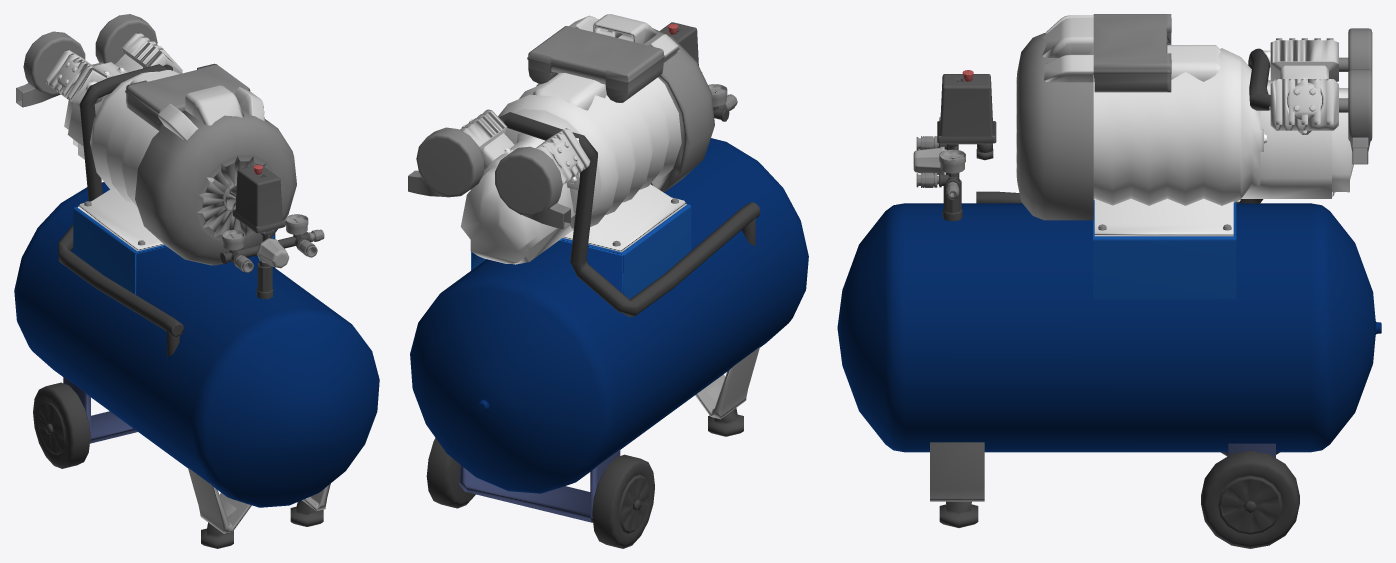
Rendered from air_compressor_obj.glb.
The picture shows the model from 3 angles, left to right: view 1: azimuth 30°, elevation 25°; view 2: azimuth 150°, elevation 25°; view 3: azimuth 270°, elevation 25°; orthographic projection. The views are drawn at different scales.
Visible parts, largest first — view 1: name4, name8, name6, name52, name16, name29, name10, name44, name23, name11, name38, name9 (+12 smaller); view 2: name4, name6, name52, name29, name22, name8, name16, name23, name9, name10, name11, name14 (+8 smaller); view 3: name4, name6, name8, name10, name15, name22, name29, name11, name44, name24, name21, name38 (+8 smaller).
Boxes of the visible parts, x1,y1,x2,y2 form: name4: [14, 182, 379, 507]; name8: [135, 108, 296, 265]; name6: [90, 70, 214, 207]; name52: [58, 64, 183, 337]; name16: [33, 382, 90, 468]; name29: [125, 63, 250, 131]; name10: [73, 206, 275, 294]; name44: [232, 164, 285, 233]; name23: [16, 31, 85, 107]; name11: [78, 189, 163, 250]; name38: [45, 49, 111, 106]; name9: [95, 14, 157, 64]; name4: [410, 138, 808, 493]; name6: [498, 73, 681, 230]; name52: [499, 112, 760, 317]; name29: [527, 26, 664, 102]; name22: [460, 133, 575, 264]; name8: [607, 28, 714, 192]; name16: [592, 454, 654, 548]; name23: [495, 146, 570, 229]; name9: [408, 127, 483, 197]; name10: [471, 204, 691, 299]; name11: [563, 184, 686, 252]; name14: [459, 449, 620, 522]; name4: [837, 203, 1381, 452]; name6: [1093, 48, 1263, 205]; name8: [1016, 33, 1093, 220]; name10: [1093, 200, 1236, 299]; name15: [1201, 450, 1299, 548]; name22: [1241, 79, 1353, 198]; name29: [1093, 14, 1171, 92]; name11: [1094, 198, 1233, 236]; name44: [937, 74, 996, 144]; name24: [1269, 79, 1338, 134]; name21: [930, 442, 984, 501]; name38: [1270, 38, 1338, 81].
Size of the model in its own units: 0.6098 by 1.28 by 1.33.
